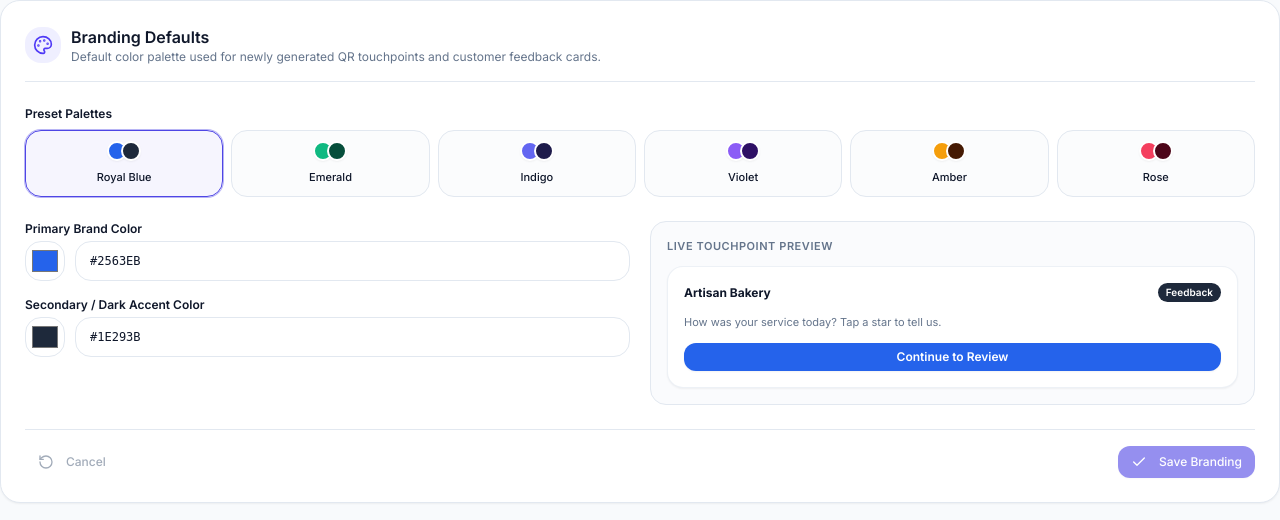
BrandingSettingsForm Component › validates hex color format and shows error for non-hex values
Note: Invalid hex
Type "blue" into the field showing "#2563EB" below "Primary Brand Color" at [352, 260], box [75,240,630,280]
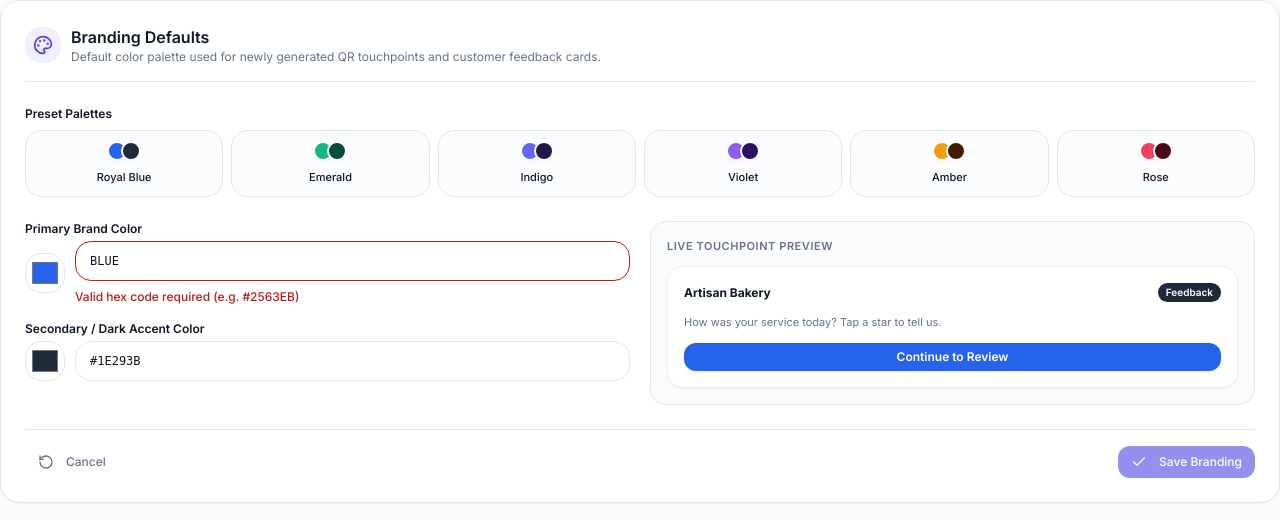
Expected: the button "Save Branding" is disabled, [1118,446,1255,478]
Now the text "Valid hex code required (e.g. #2563EB)" is shown, box [75,288,299,304]
Note: Valid hex
Replace the text in the field showing "#2563EB" below "Primary Brand Color" with "#10B981" at [352, 260], box [75,240,630,280]
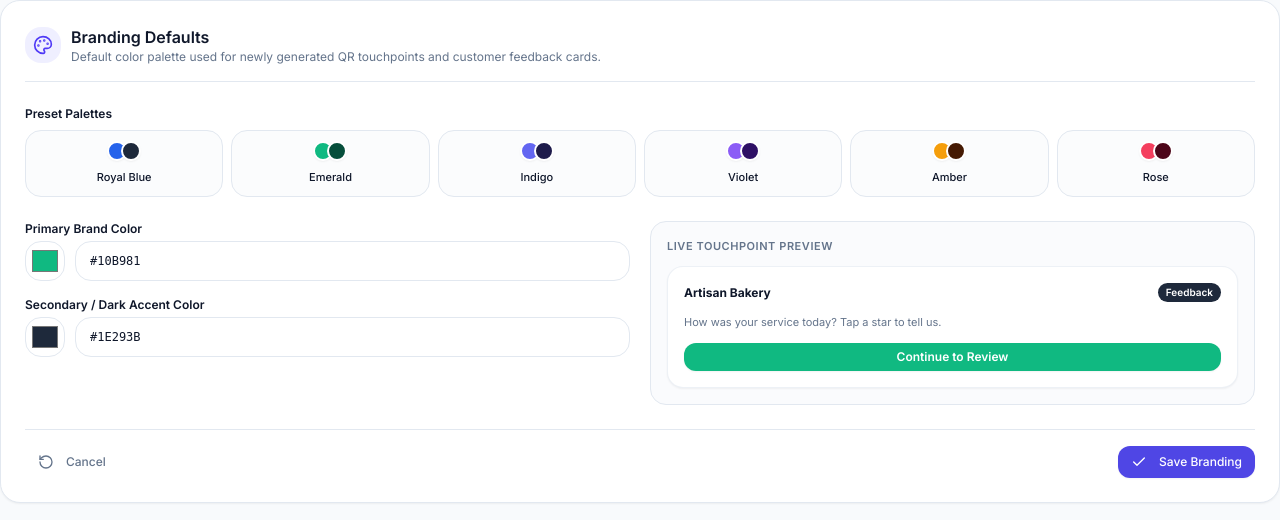
Now the text "Valid hex code required" is gone
Now the button "Save Branding" is enabled, box [1118,446,1255,478]
